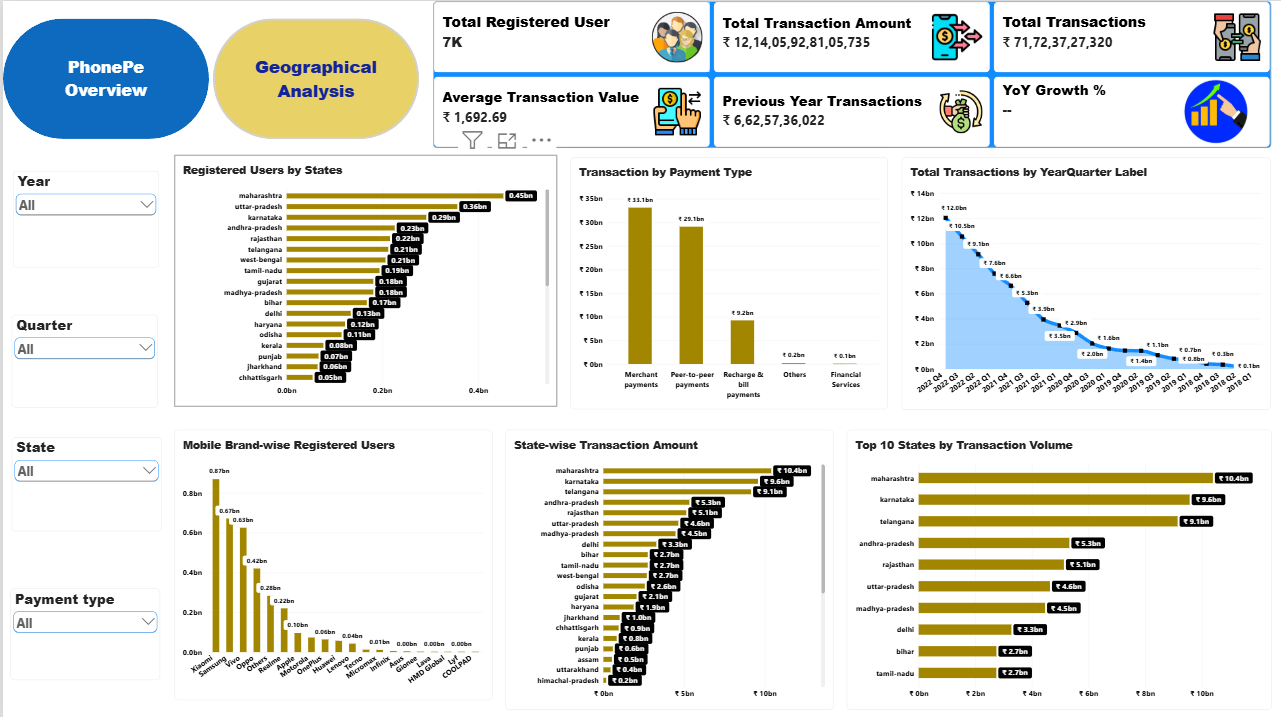

What the dashboard file says about the page in this screenshot:
{"tool":"powerbi","page":{"name":"PhonePe Overview","canvas":[2560,1440],"ordinal":0},"visuals":[{"type":"cardVisual","fields":{"Data":["aggregated_user.Total Registered User","aggregated_transaction.Total Transaction Amount","aggregated_transaction.Total Transactions","aggregated_transaction.Average Transaction Value","aggregated_transaction.Previous Year Transactions","aggregated_transaction.YoY Growth %"]},"box":[859,0,1677,294.4],"z":0},{"type":"slicer","fields":{"Values":["Calendar.Year"]},"box":[19.3,340.2,292,193],"z":1},{"type":"slicer","fields":{"Values":["Calendar.quarter"]},"box":[16.9,627.3,292,185.8],"z":2},{"type":"lineChart","fields":{"Category":["Calendar.YearQuarter Label"],"Y":["aggregated_transaction.Total Transactions"]},"box":[1797.5,312.5,737.5,505],"z":3},{"type":"clusteredColumnChart","title":"Transaction by Payment Type","fields":{"Category":["aggregated_transaction.trans_type"],"Y":["aggregated_transaction.Total Transactions"]},"box":[1135,312.5,634.6,504.3],"z":4},{"type":"clusteredBarChart","title":"Top 10 States by Transaction Volume","fields":{"Category":["aggregated_transaction.states"],"Y":["aggregated_transaction.Total Transactions"]},"box":[1686.6,856.6,849.3,559.8],"z":5},{"type":"clusteredBarChart","title":"State-wise Transaction Amount","fields":{"Category":["aggregated_transaction.states"],"Y":["aggregated_transaction.Total Transactions"]},"box":[1006.2,856.6,656.3,559.8],"z":6},{"type":"clusteredBarChart","title":"Registered Users by States","fields":{"Category":["aggregated_user.states"],"Y":["Sum(aggregated_user.user_counts)"]},"box":[342.5,307.5,767.3,504.3],"z":7},{"type":"clusteredColumnChart","title":"Mobile Brand-wise Registered Users","fields":{"Category":["aggregated_user.brand"],"Y":["Sum(aggregated_user.user_counts)"]},"box":[342.6,856.6,637,540.5],"z":8},{"type":"slicer","fields":{"Values":["DimState.State"]},"box":[16.9,873.5,299.2,188.2],"z":9},{"type":"slicer","fields":{"Values":["aggregated_transaction.trans_type"]},"box":[14.5,1175.1,299.2,183.4],"z":10},{"type":"pageNavigator","box":[0,36.2,832.4,241.3],"z":11}]}

Visuals, with their boxes in screenshot pixels (x1, y1, x2, y2), scaled from the page's 2560x1440 canvas onto the 1281x717 screenshot:
cardVisual - aggregated_user.Total Registered User x aggregated_transaction.Total Transaction Amount: (430, 0, 1269, 147)
slicer - Calendar.Year: (10, 169, 156, 265)
slicer - Calendar.quarter: (8, 312, 155, 405)
lineChart - Calendar.YearQuarter Label x aggregated_transaction.Total Transactions: (899, 156, 1268, 407)
"Transaction by Payment Type" clusteredColumnChart: (568, 156, 885, 407)
"Top 10 States by Transaction Volume" clusteredBarChart: (844, 427, 1269, 705)
"State-wise Transaction Amount" clusteredBarChart: (503, 427, 832, 705)
"Registered Users by States" clusteredBarChart: (171, 153, 555, 404)
"Mobile Brand-wise Registered Users" clusteredColumnChart: (171, 427, 490, 696)
slicer - DimState.State: (8, 435, 158, 529)
slicer - aggregated_transaction.trans_type: (7, 585, 157, 676)
pageNavigator: (0, 18, 417, 138)
